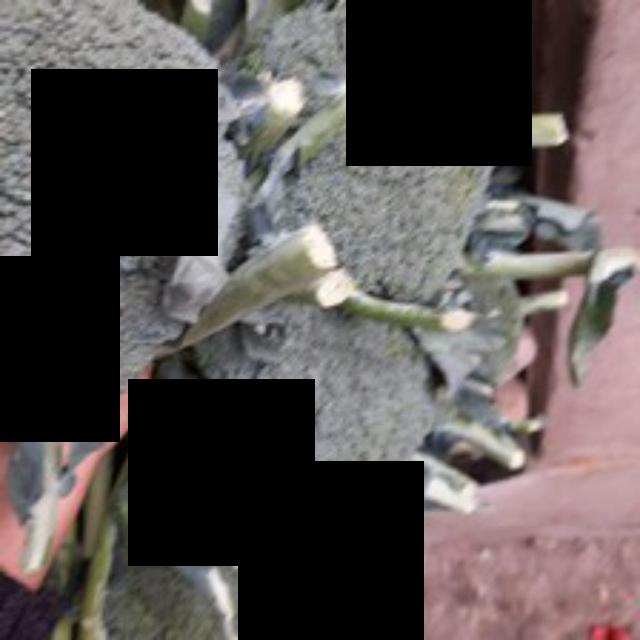broccoli: (0, 1, 254, 434)
